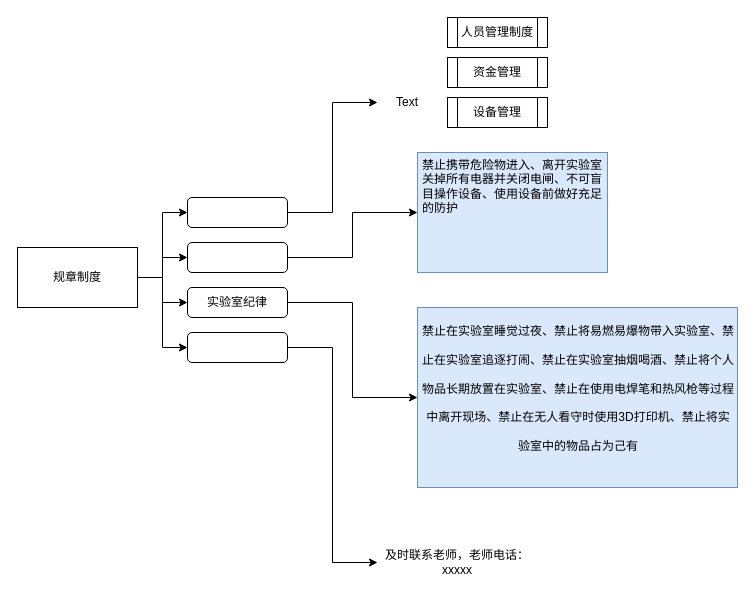
The diagram is 755 pixels wide and 595 high, and some of its shapes have lost their labels. The shapes that lost their labels are listed below. From the top down, each one's centre as x and y in pixels, then its label:
At (x=237, y=212): "实验室管理".
At (x=237, y=257): "实验室安全".
At (x=237, y=347): "实验室意外和事故".
